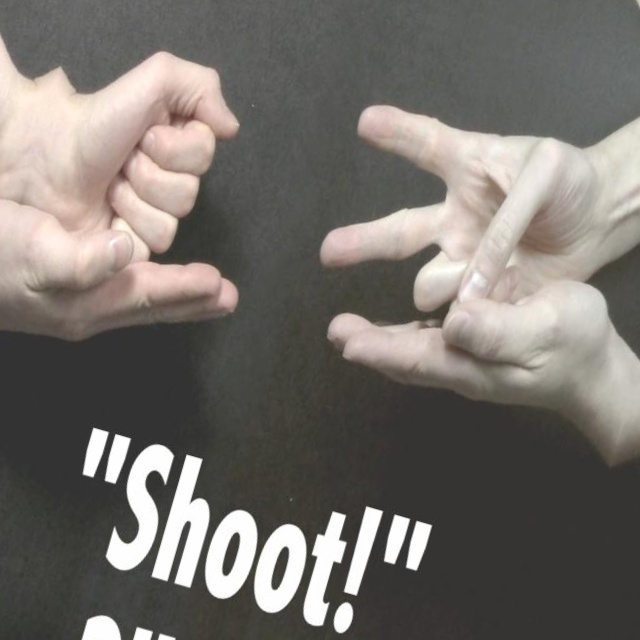Rock: (33, 31, 256, 284)
Scissors: (307, 81, 628, 369)
